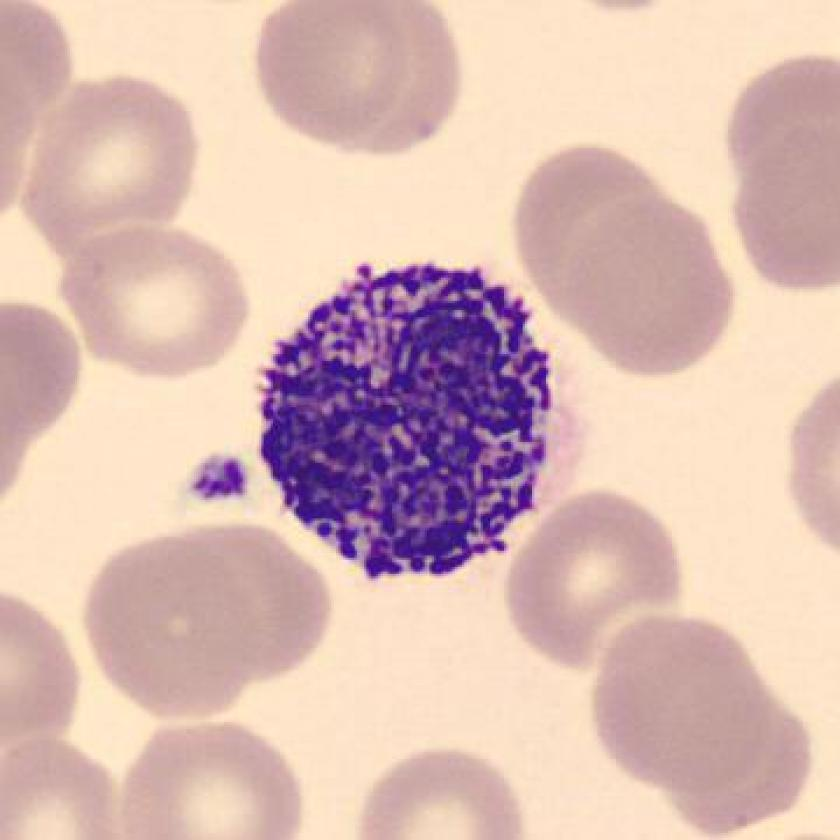basophil: (258, 258, 559, 589)
